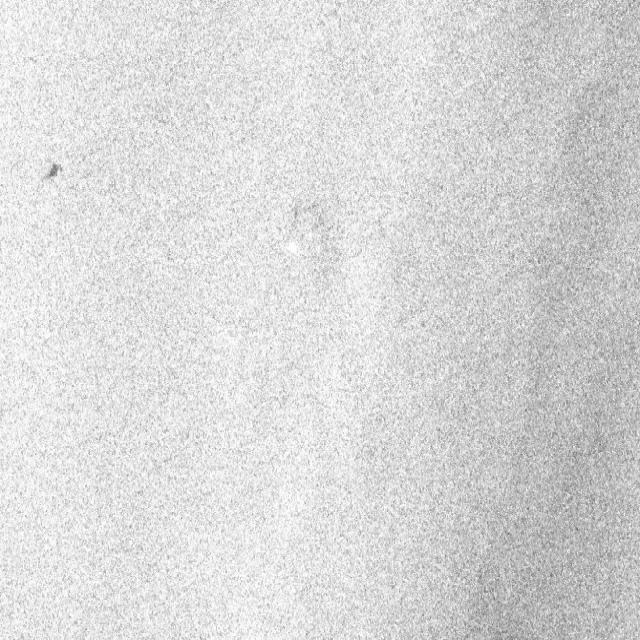oil-spill: (39, 156, 64, 185)
ship: (278, 235, 305, 263)
